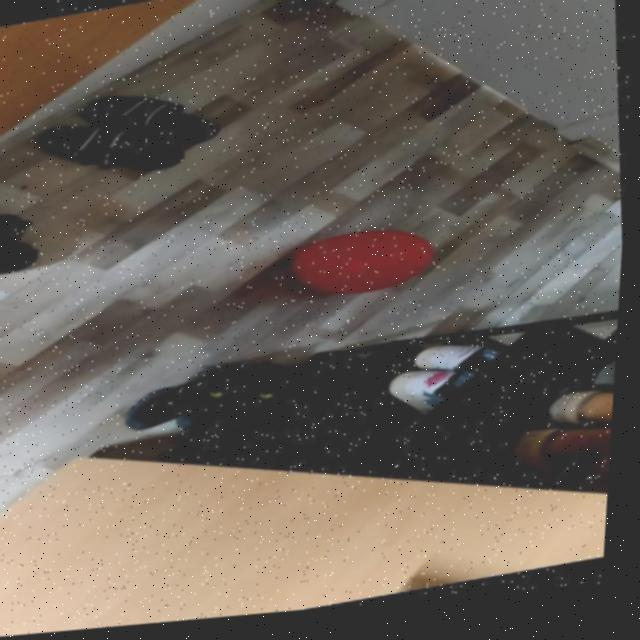balloon: (274, 222, 448, 317)
